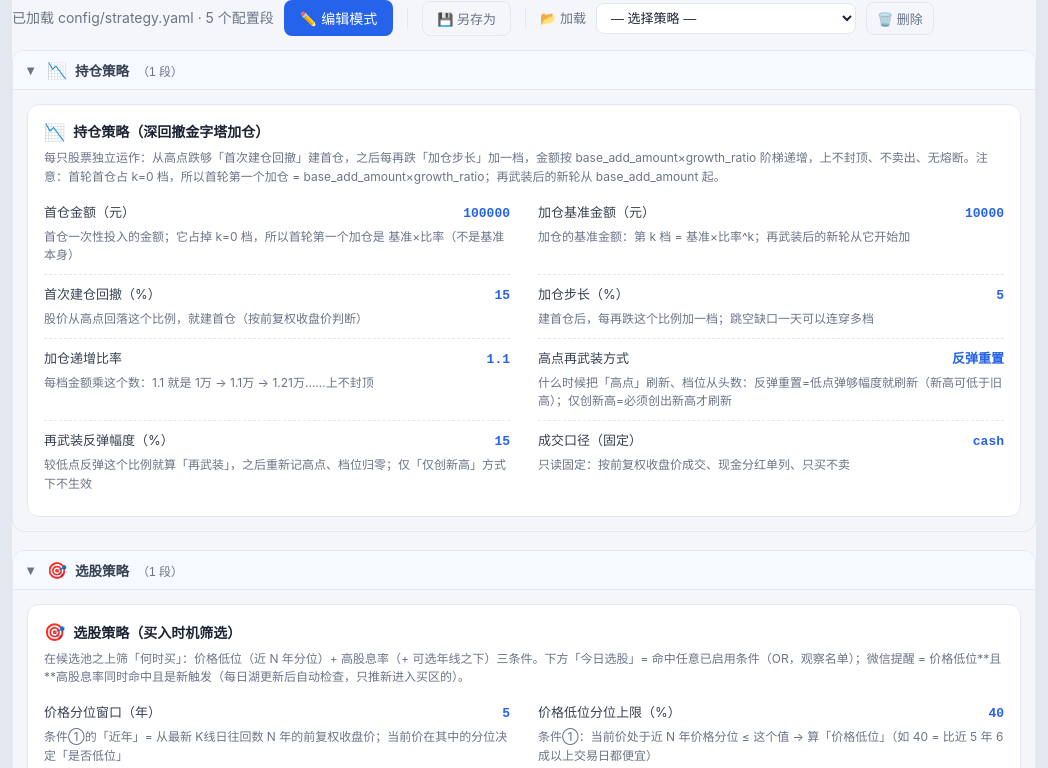
v7 · 本地保存校验（int/float/list；400 保持编辑态） › int 字段输入非整数 → msg-box 报错、不发 PUT
Click the button with id "btn-strategy-edit" at (339, 18), box [284, 0, 393, 36]
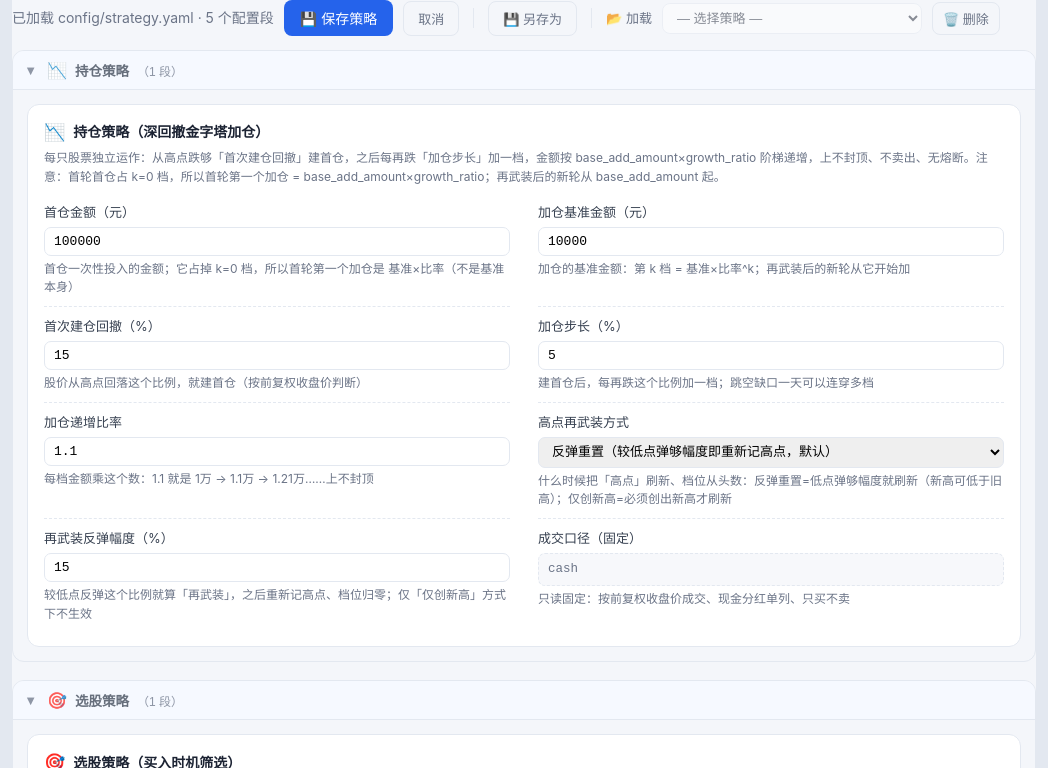
# initial_amount 是第一个 number input
Replace the text in the number field below "首仓金额（元）" with "abc" at (277, 241), box [44, 227, 510, 256]
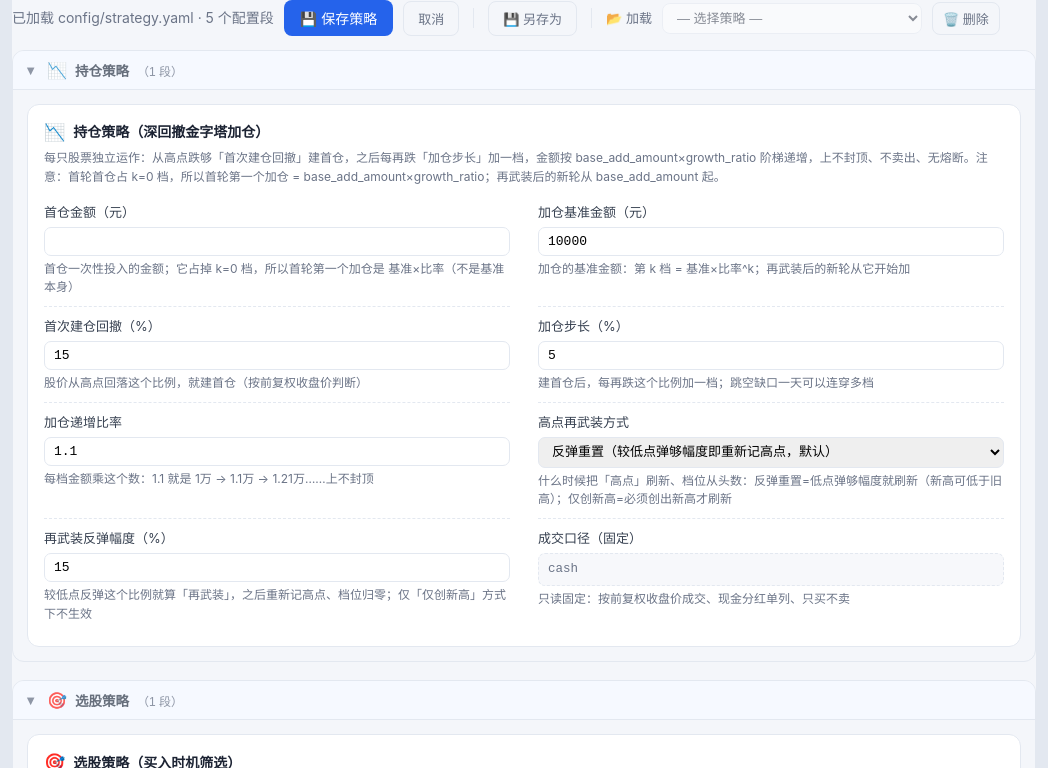
Click the button with id "btn-strategy-save" at (339, 18), box [284, 0, 393, 36]
(page scrolled)
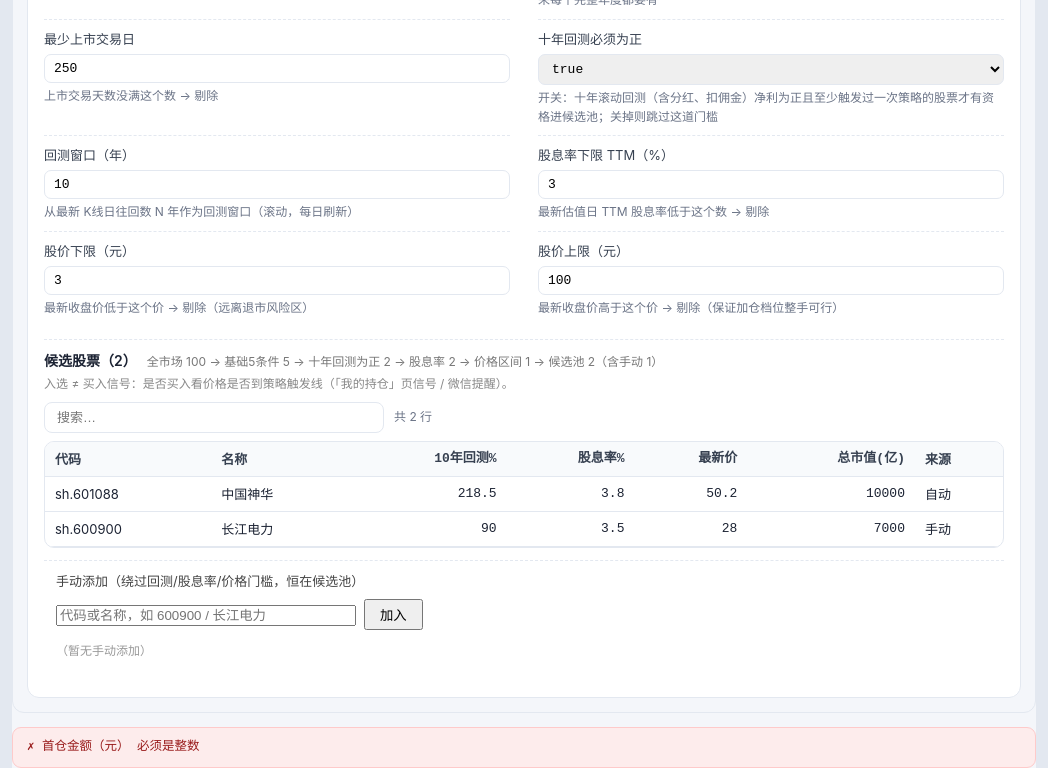
Expected: the text with class "msg-err" shows "必须是整数", [27, 740, 200, 754]
